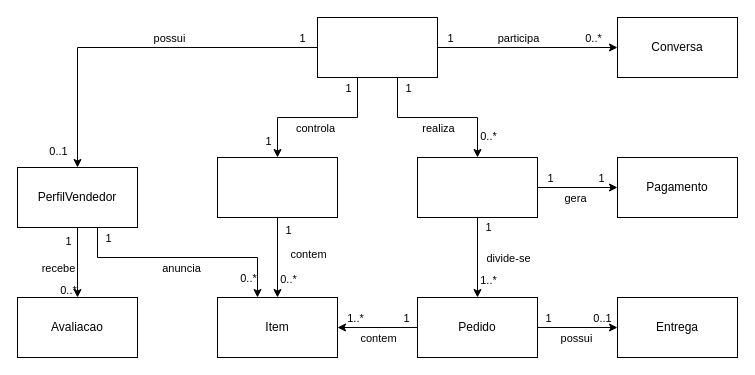
The diagram is 755 pixels wide and 375 high, and some of its shapes have lost their labels. Here are the shapes that lost their labels. From the top down, the box of each, then its label:
(316, 16, 438, 78): Usuario
(216, 156, 338, 218): Carrinho
(416, 156, 538, 218): Compra
